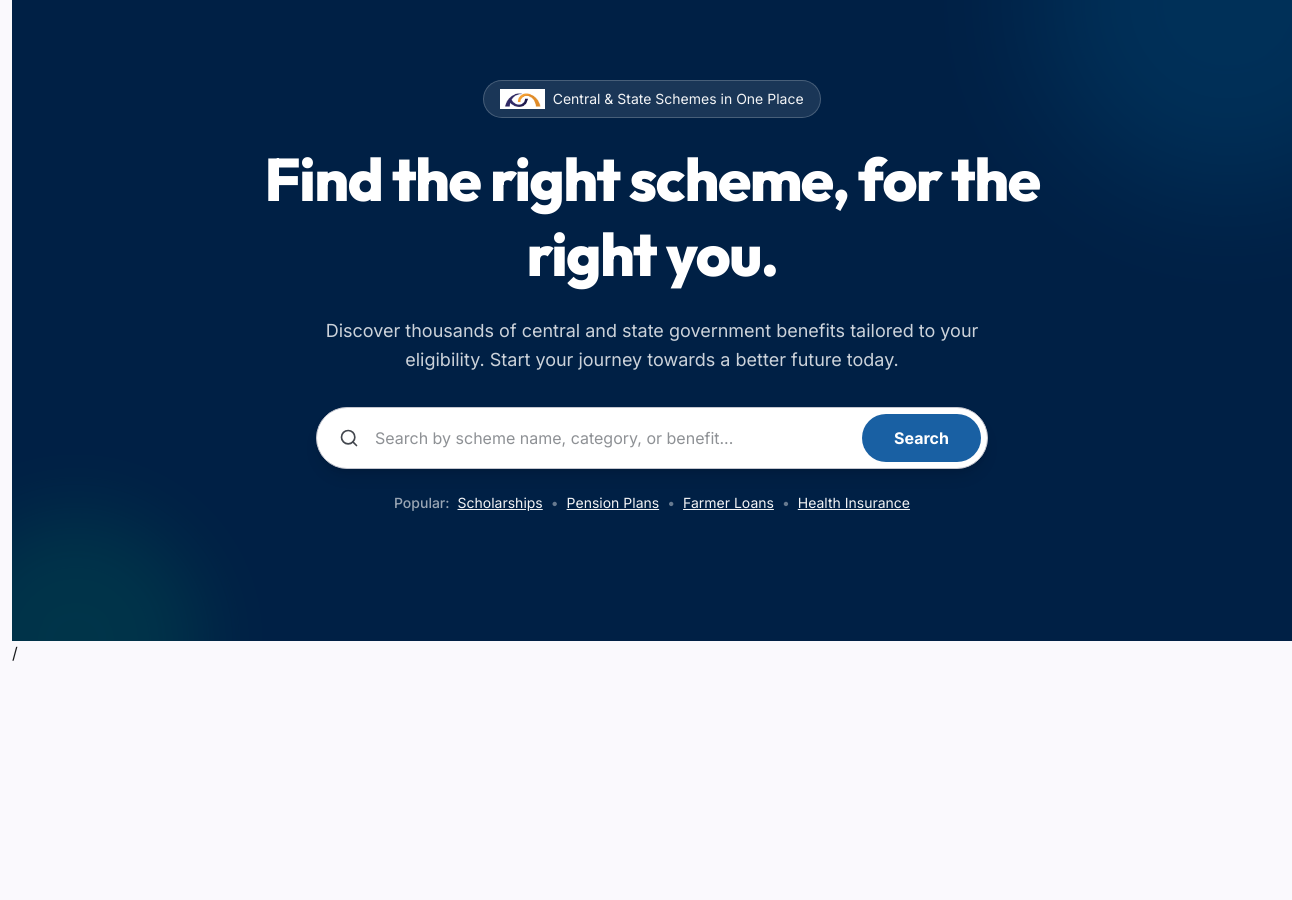
the home page search box and chips open Search, not the login page › the pensions chip opens that topic
This screenshot has width=1292, height=900.
Click the button "Pension Plans".
click(613, 502)  # box x1=567 y1=492 x2=659 y2=512
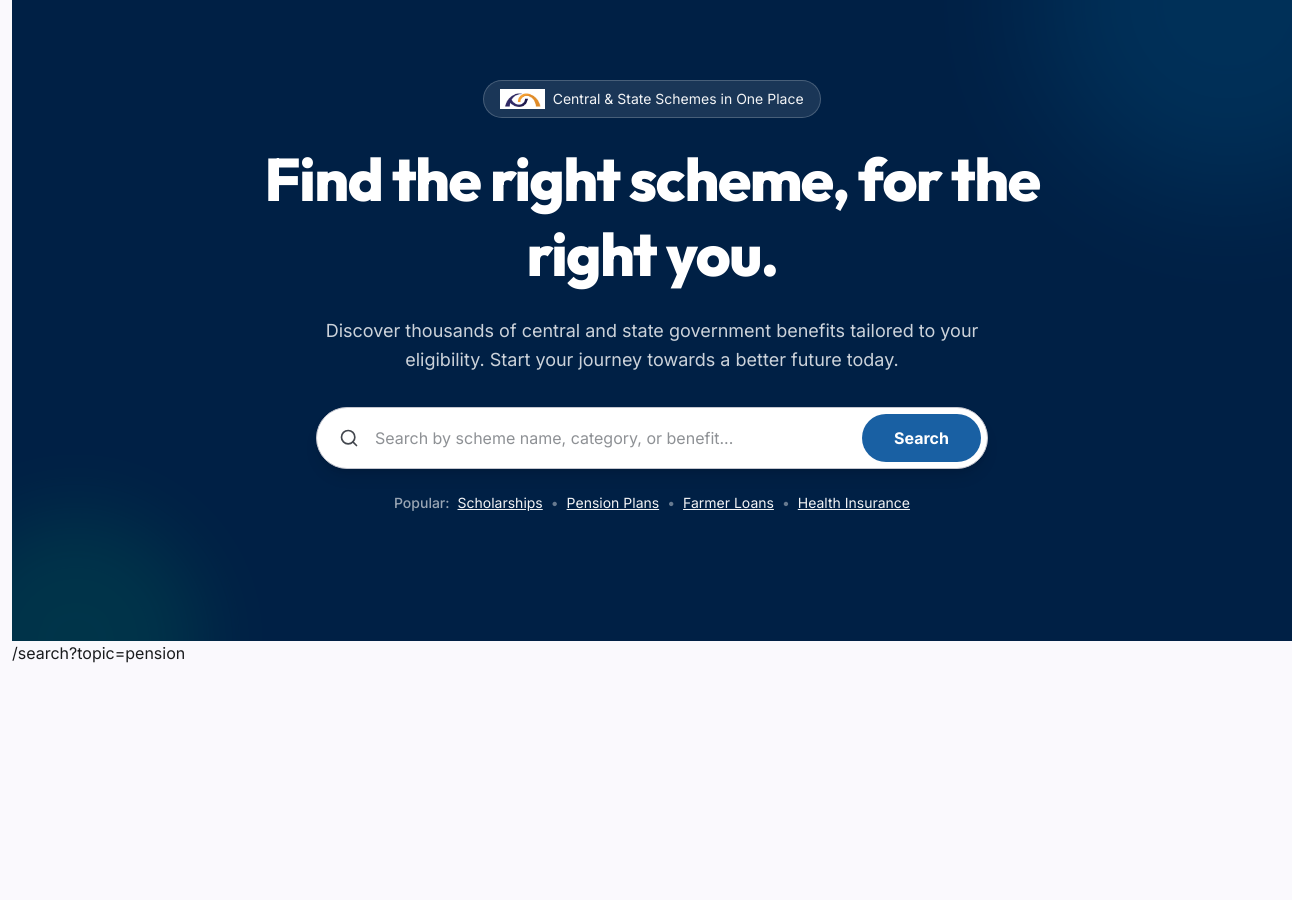
expect the text with test id "where" reads "/search?topic=pension": met, box x1=12 y1=642 x2=185 y2=662
